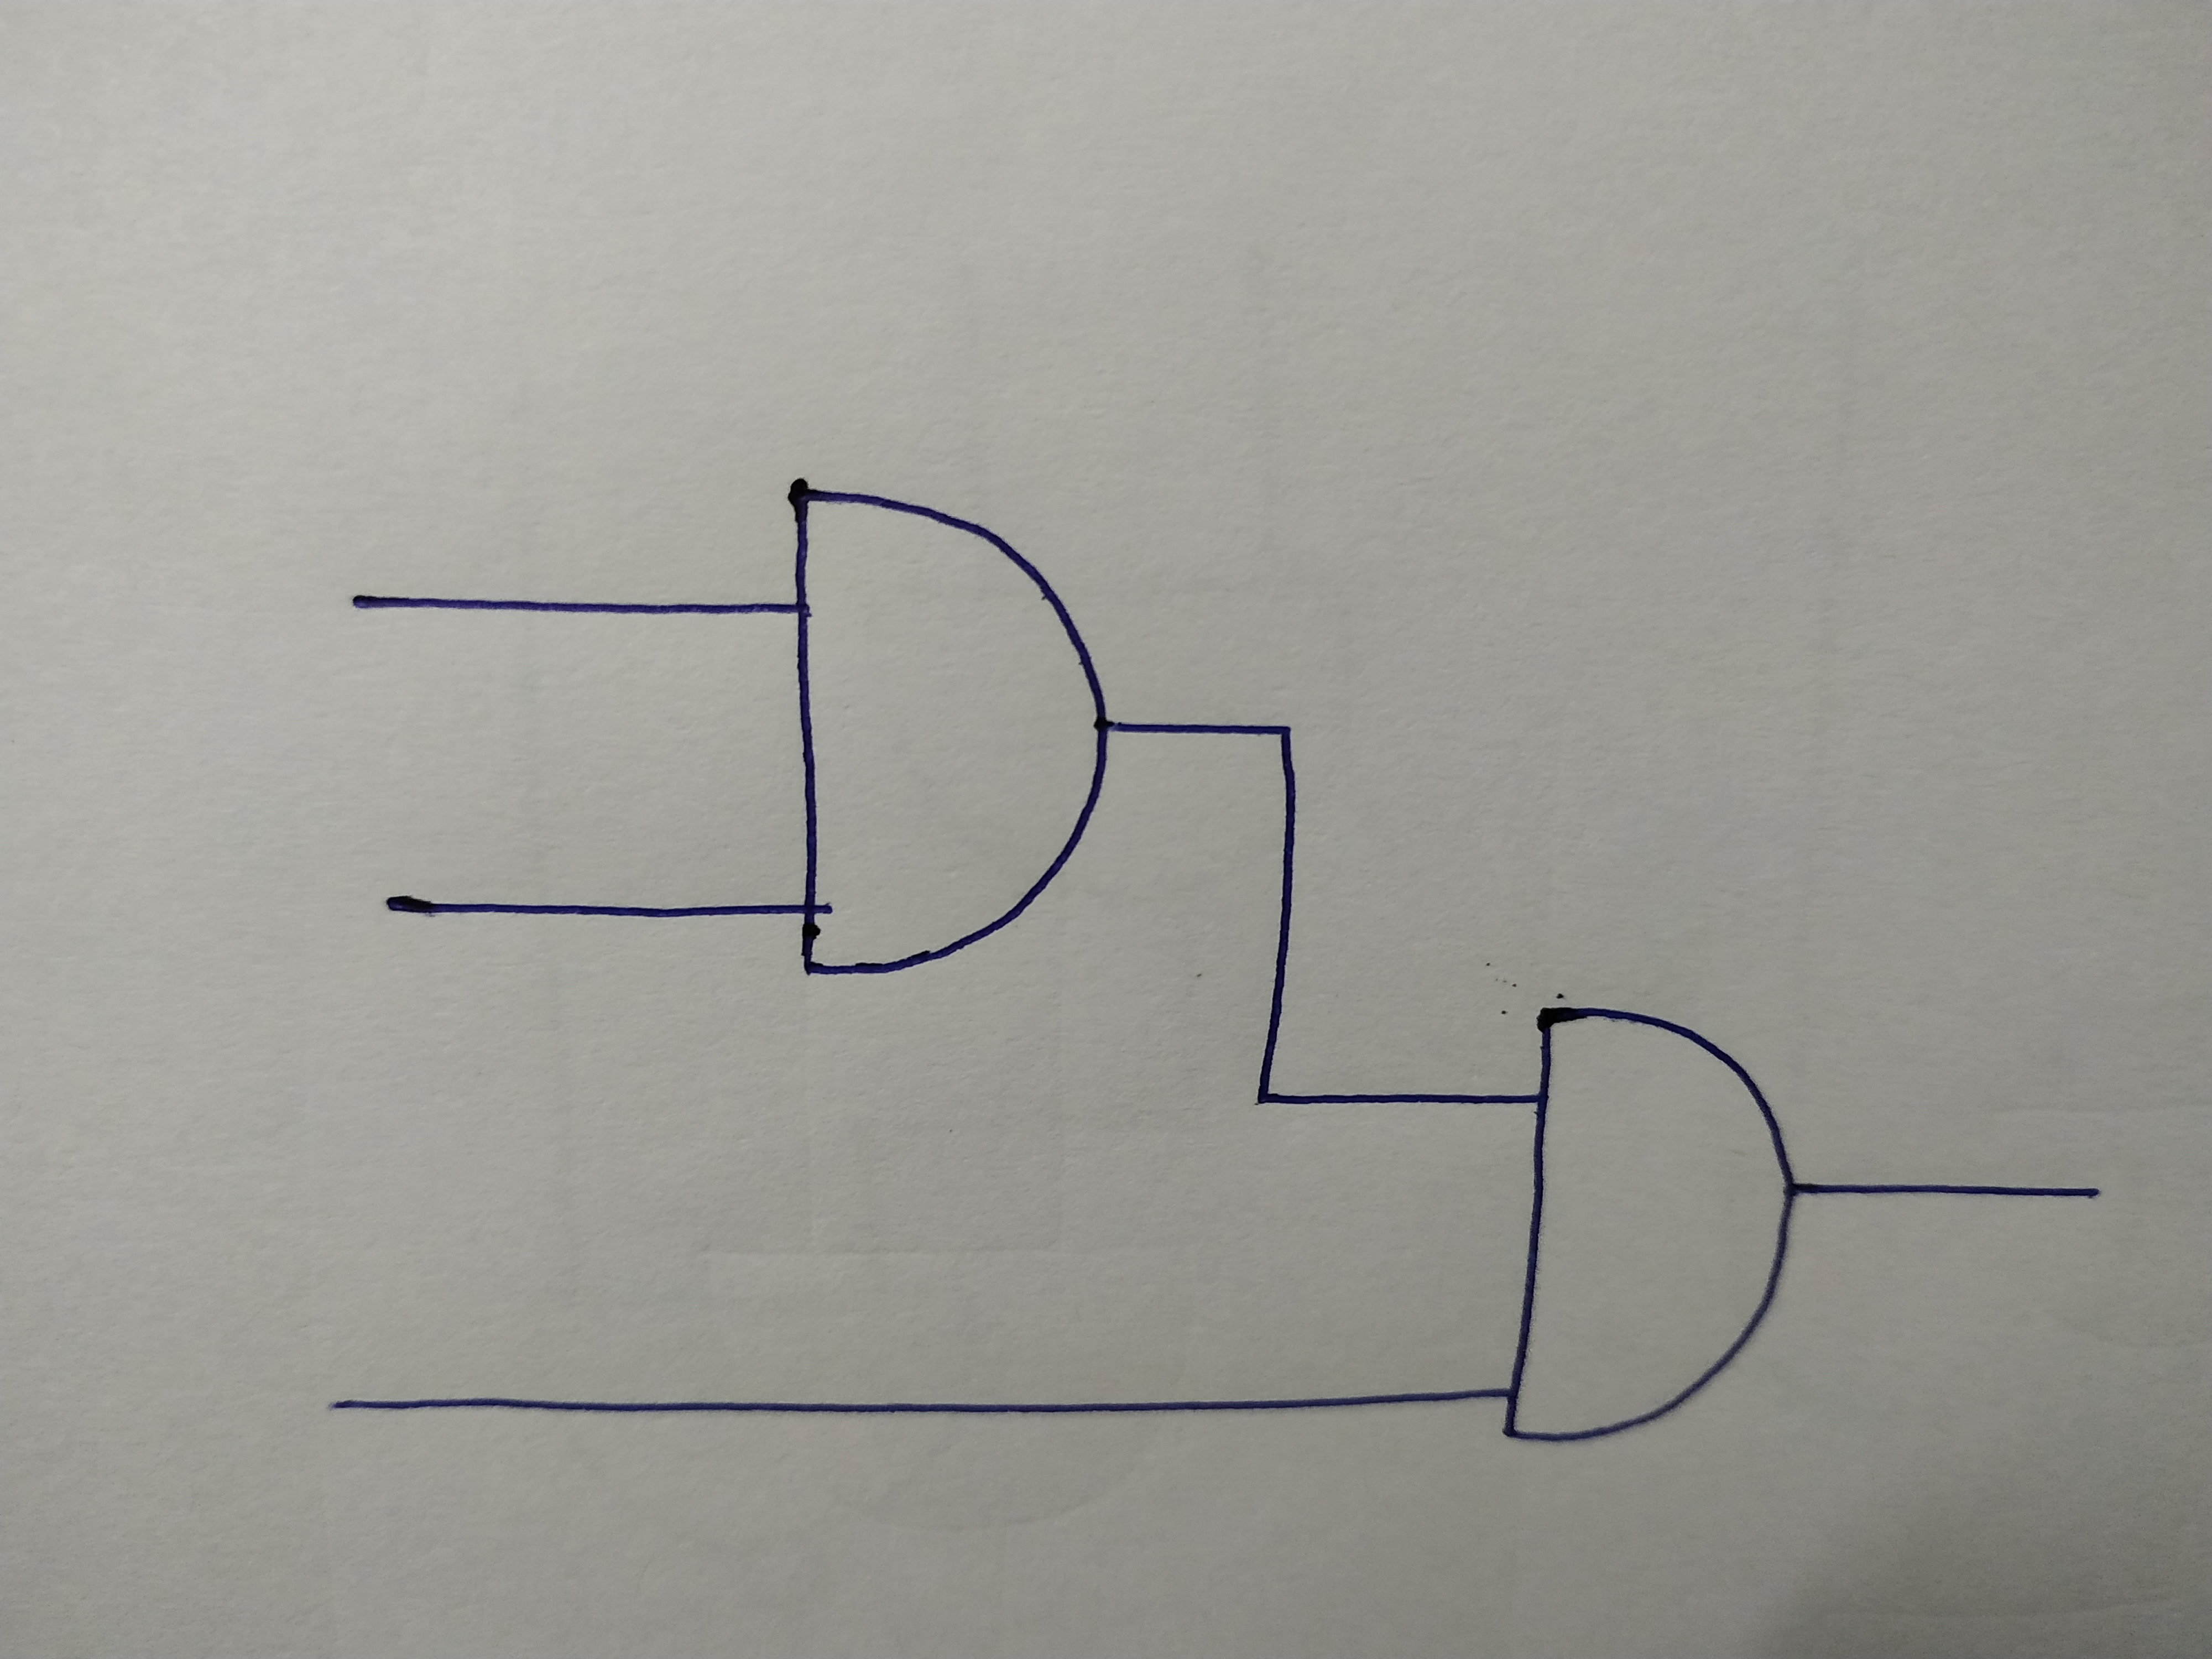and: (780, 479, 1115, 979), (1503, 1007, 1796, 1441)
